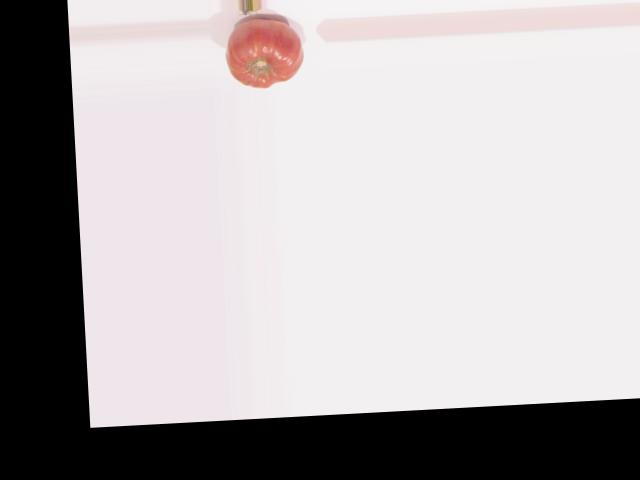tomato: (224, 17, 304, 89)
